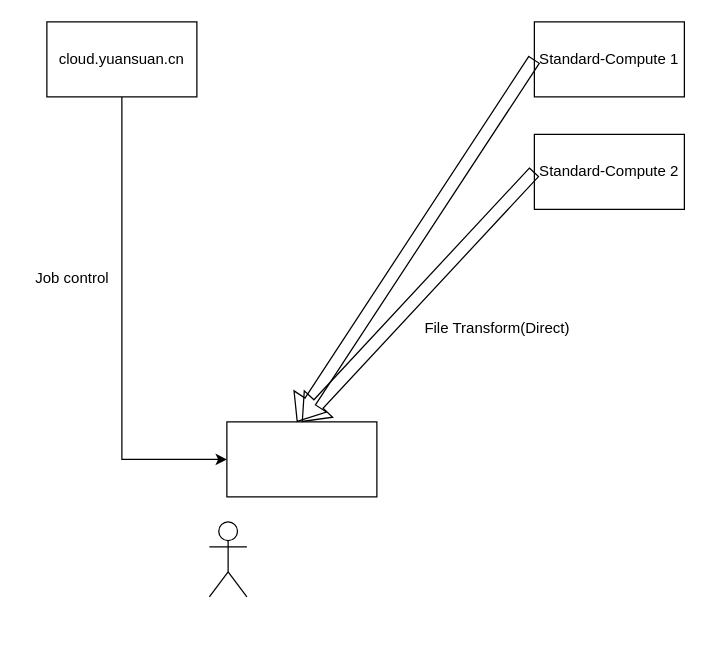
Some shapes in this 706 by 645 pixel diagram are drawn without their labels. Each missing label, with the centre of its shape:
"Actor" goes at (227,559).
"NativeApp or AppServer power by OpenAPI" goes at (301,459).
